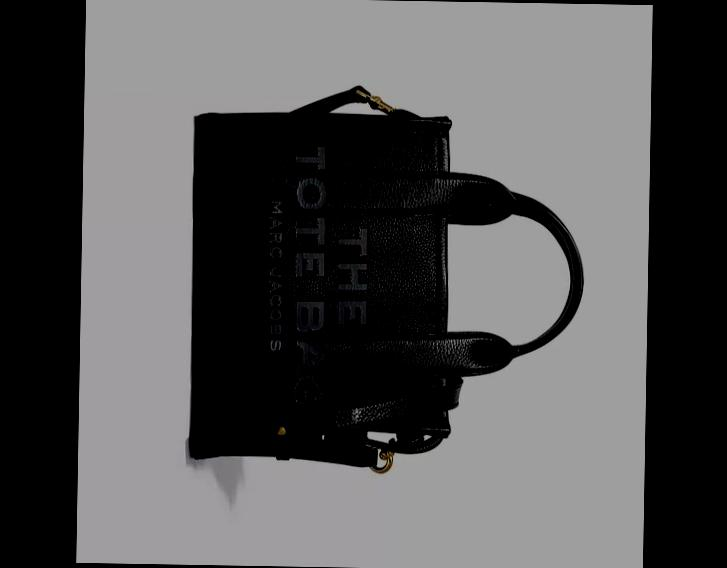MARC-JACOBS: (265, 200, 284, 350)
